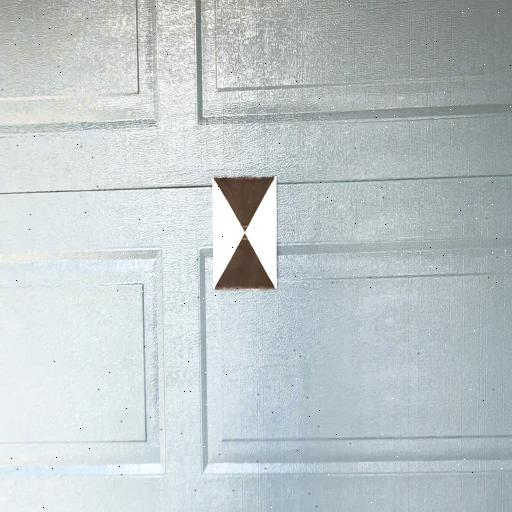target: (213, 178, 277, 287)
